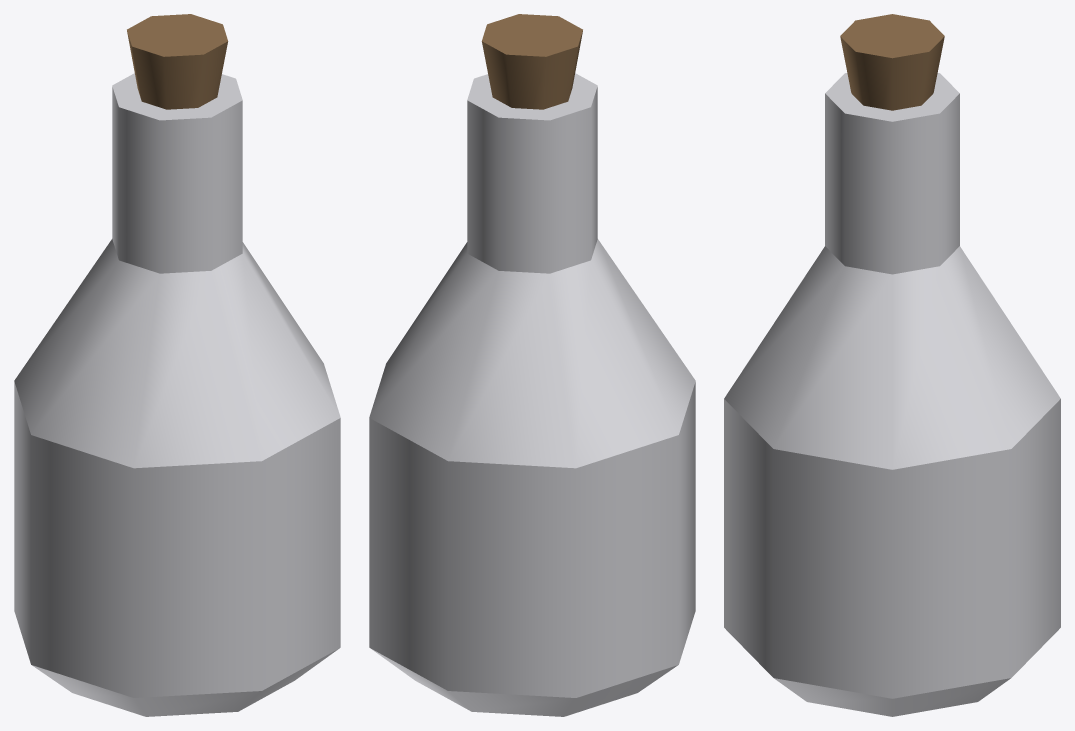
3 views of the same model, side by side, from view 1: azimuth 30°, elevation 25°; view 2: azimuth 150°, elevation 25°; view 3: azimuth 270°, elevation 25° (orthographic).
Visible parts, largest first — view 1: potion.002, fluid.001; view 2: potion.002, fluid.001; view 3: potion.002, fluid.001.
Boxes of the visible parts, x1=… form: potion.002: x1=14, y1=73, x2=340, y2=716; fluid.001: x1=127, y1=14, x2=228, y2=109; potion.002: x1=369, y1=73, x2=695, y2=716; fluid.001: x1=481, y1=14, x2=582, y2=109; potion.002: x1=724, y1=73, x2=1060, y2=716; fluid.001: x1=840, y1=14, x2=944, y2=110.
Bounding box in the file's own units: 20 × 41.25 × 20.
